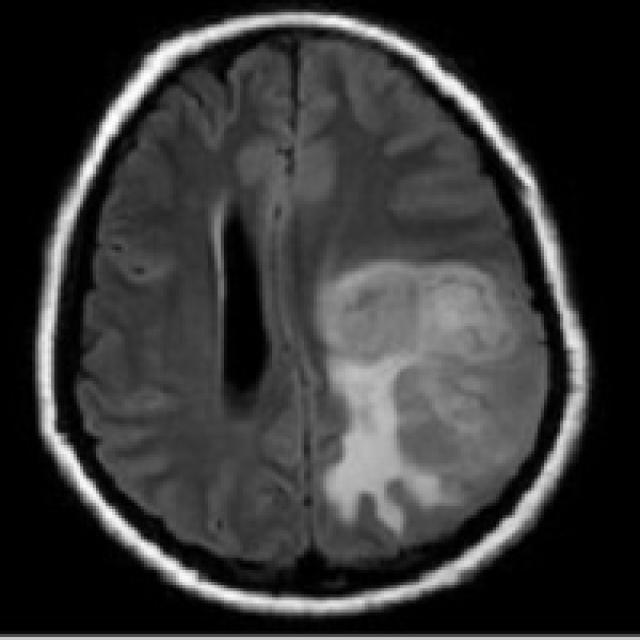Tumor-Cell: (315, 258, 500, 525)
